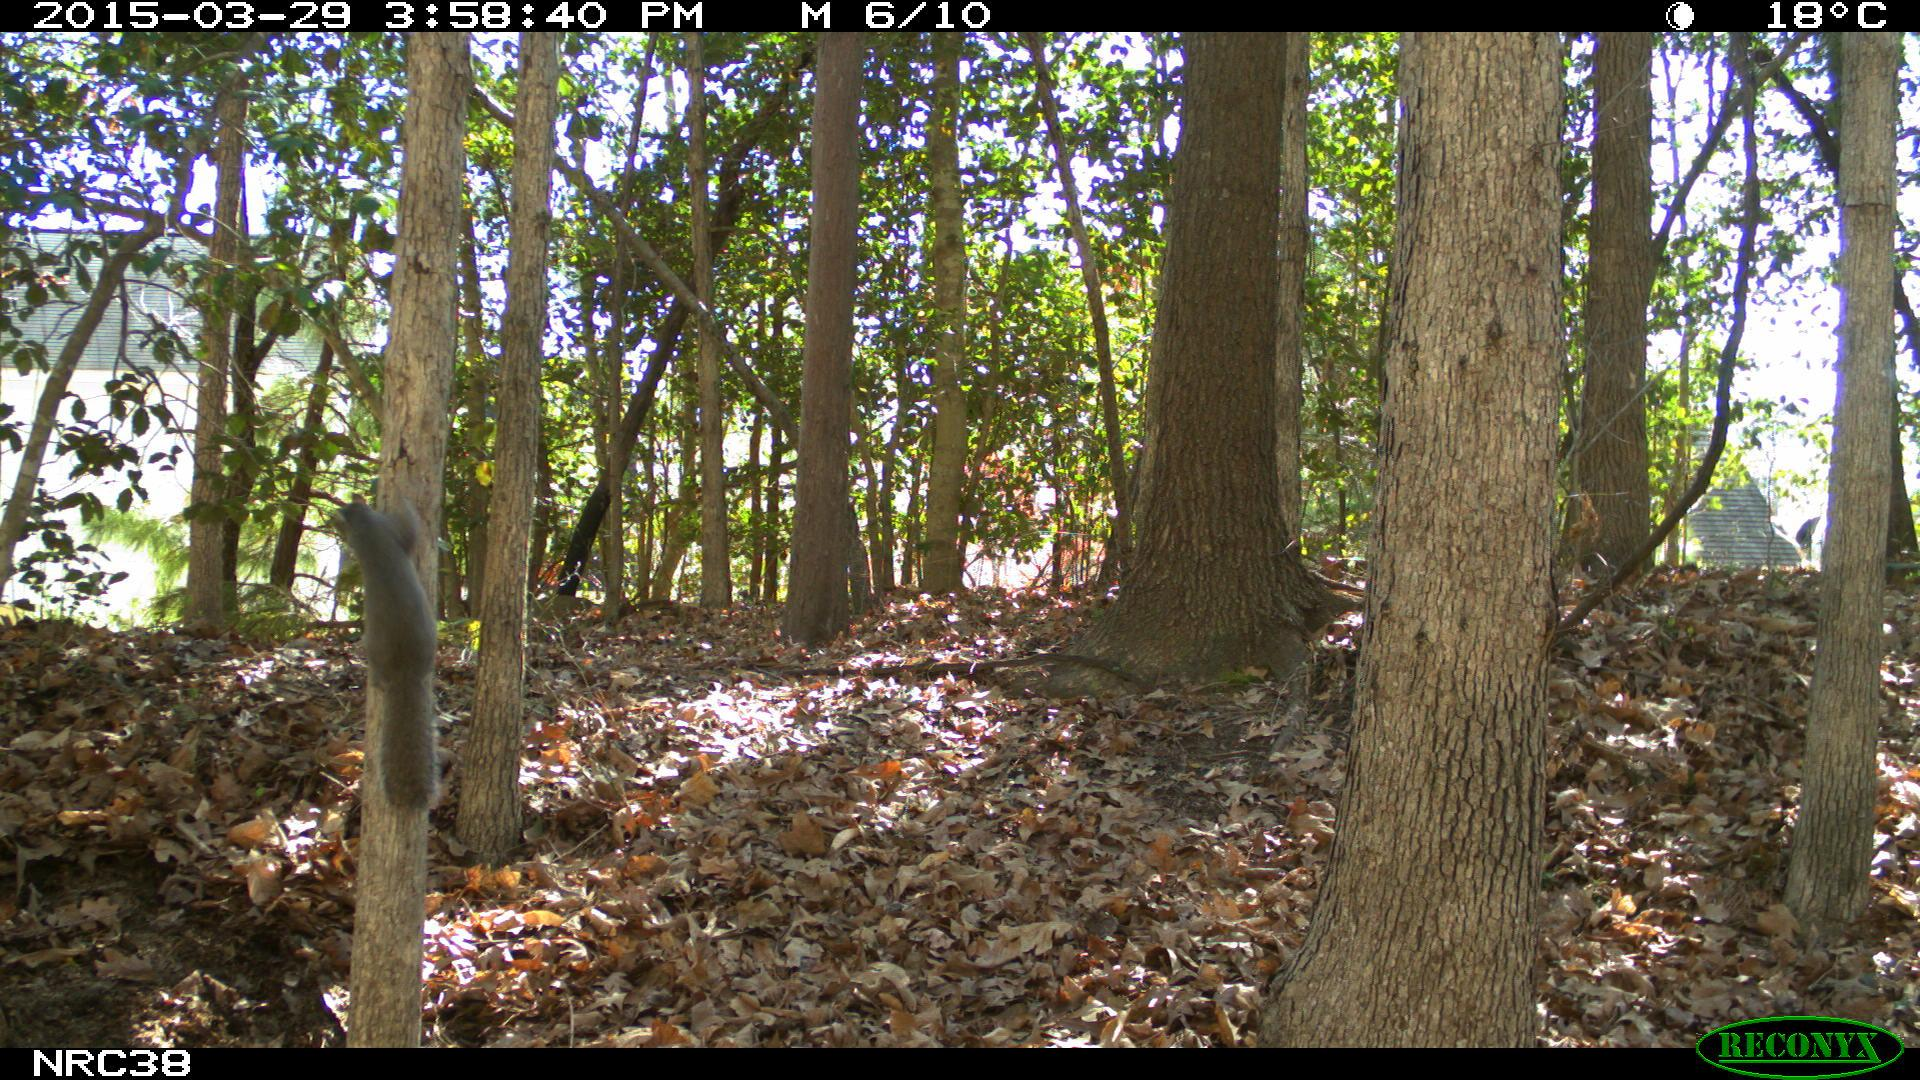Animal: (328, 492, 448, 804)
